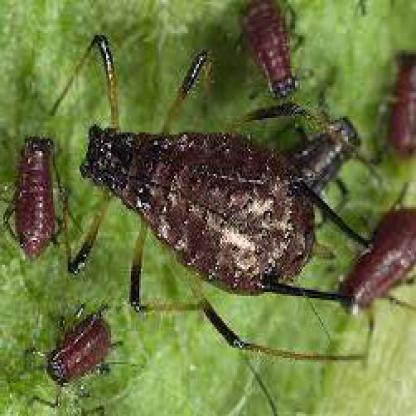uroleucon compositae: (71, 34, 375, 348)
